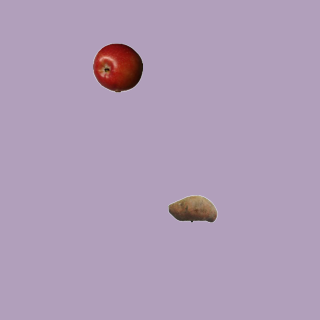Apple Braeburn: (92, 42, 142, 92)
Potato Sweet: (167, 183, 217, 233)
